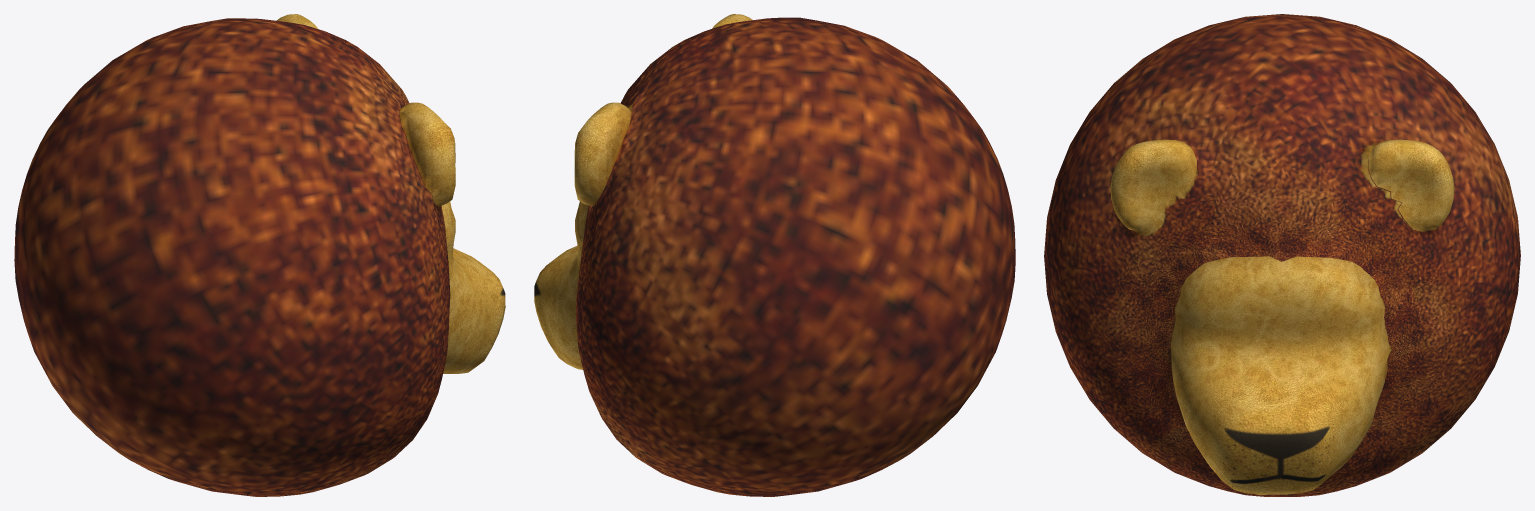
The model's file is lav_glava.glb.
3 renders of one model, left to right at view 1: azimuth 30°, elevation 25°; view 2: azimuth 150°, elevation 25°; view 3: azimuth 270°, elevation 25°, orthographic.
Visible parts, largest first — view 1: Icosphere; view 2: Icosphere; view 3: Icosphere.
Boxes of the visible parts, x1=… form: Icosphere: x1=14, y1=14, x2=505, y2=496; Icosphere: x1=534, y1=14, x2=1015, y2=496; Icosphere: x1=1044, y1=14, x2=1520, y2=496.
Bounding box in the file's own units: 4.12 × 3.99 × 3.92.
Materials: 2 (2 with a texture image).
